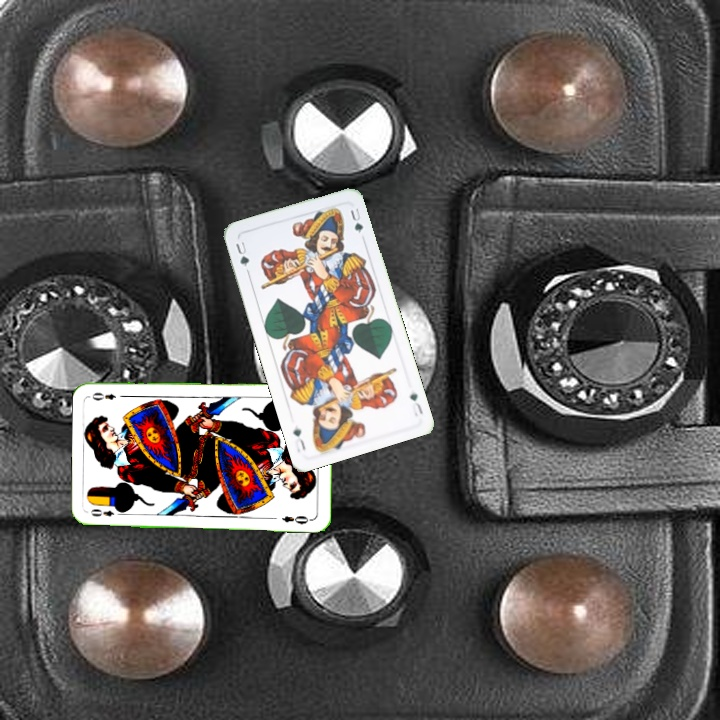EO: (86, 505, 126, 519)
GU: (231, 237, 252, 275), (405, 388, 426, 419)
